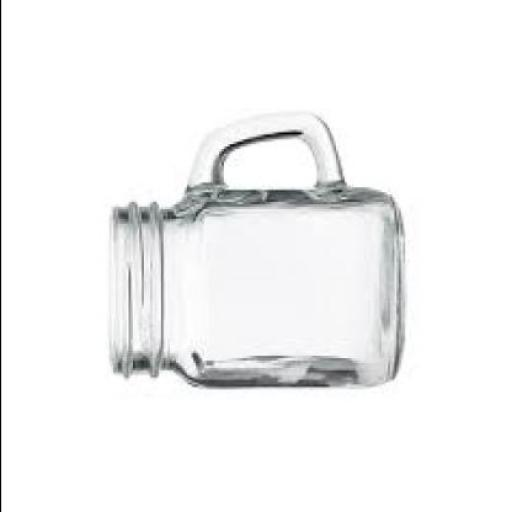glass: (106, 114, 401, 392)
